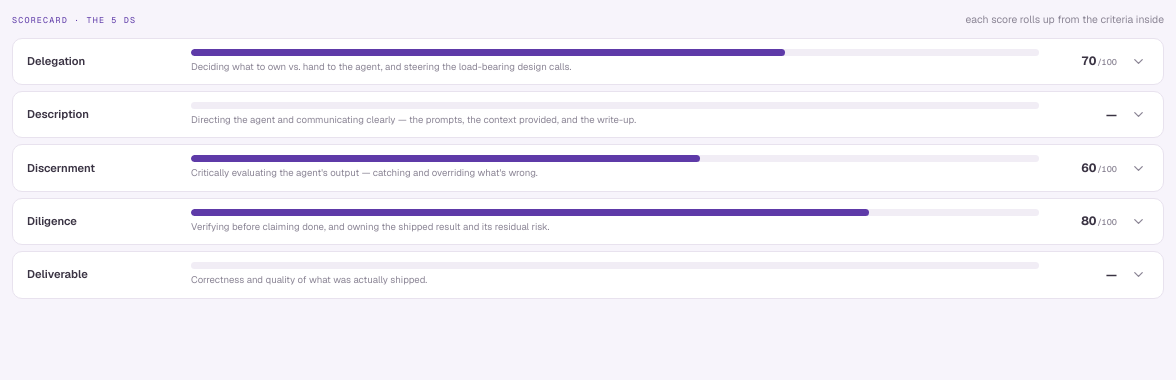
Test: AssessmentScorecard › labels heuristic telemetry as not-a-grade under an ungraded axis
Click the button "Description". click: {"x": 588, "y": 115}
box: [13, 92, 1163, 137]
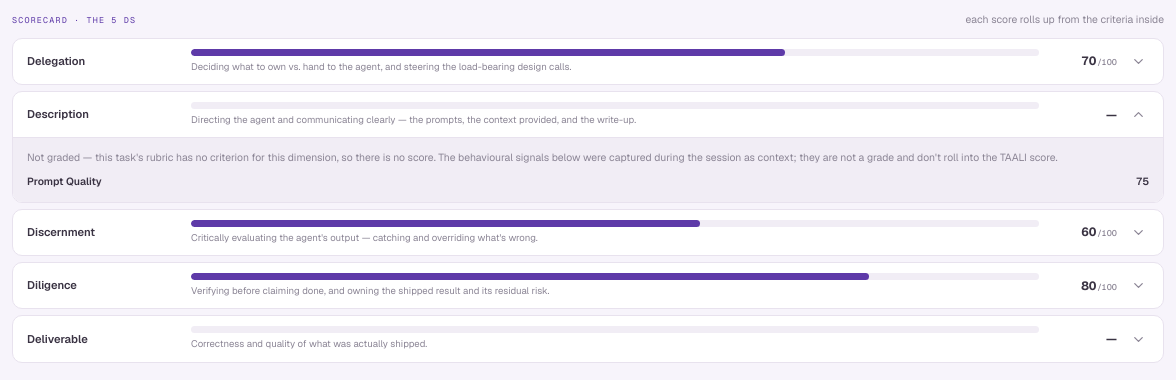
expect the text "they are not a grade" is shown: met, box [27, 151, 1058, 164]
expect the text "Prompt Quality" is shown: met, box [27, 175, 102, 188]
expect the text "75" is shown: met, box [1136, 174, 1149, 190]
